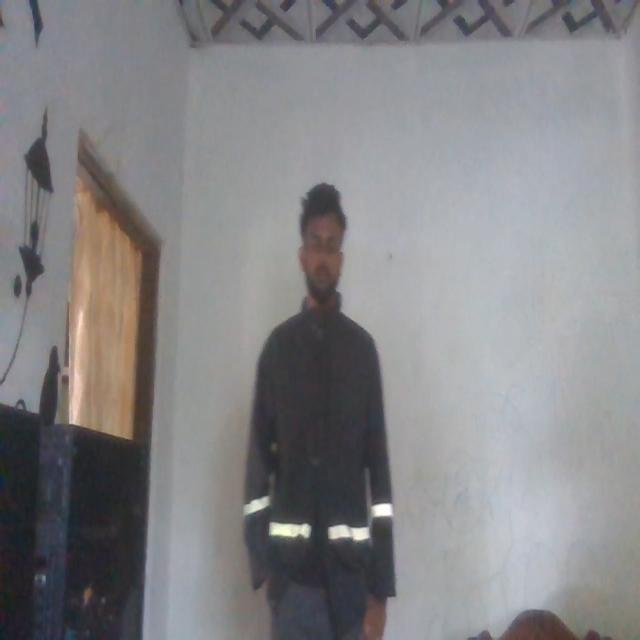Jacket_Wearer: (242, 289, 394, 587)
Person: (238, 175, 404, 640)
